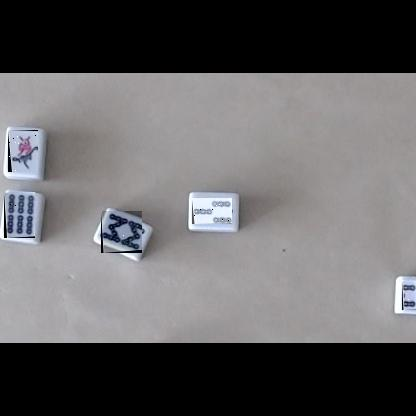1s: (8, 130, 38, 172)
3s: (192, 198, 232, 224)
5s: (402, 280, 416, 310)
6s: (4, 192, 35, 238)
8s: (101, 211, 142, 253)
